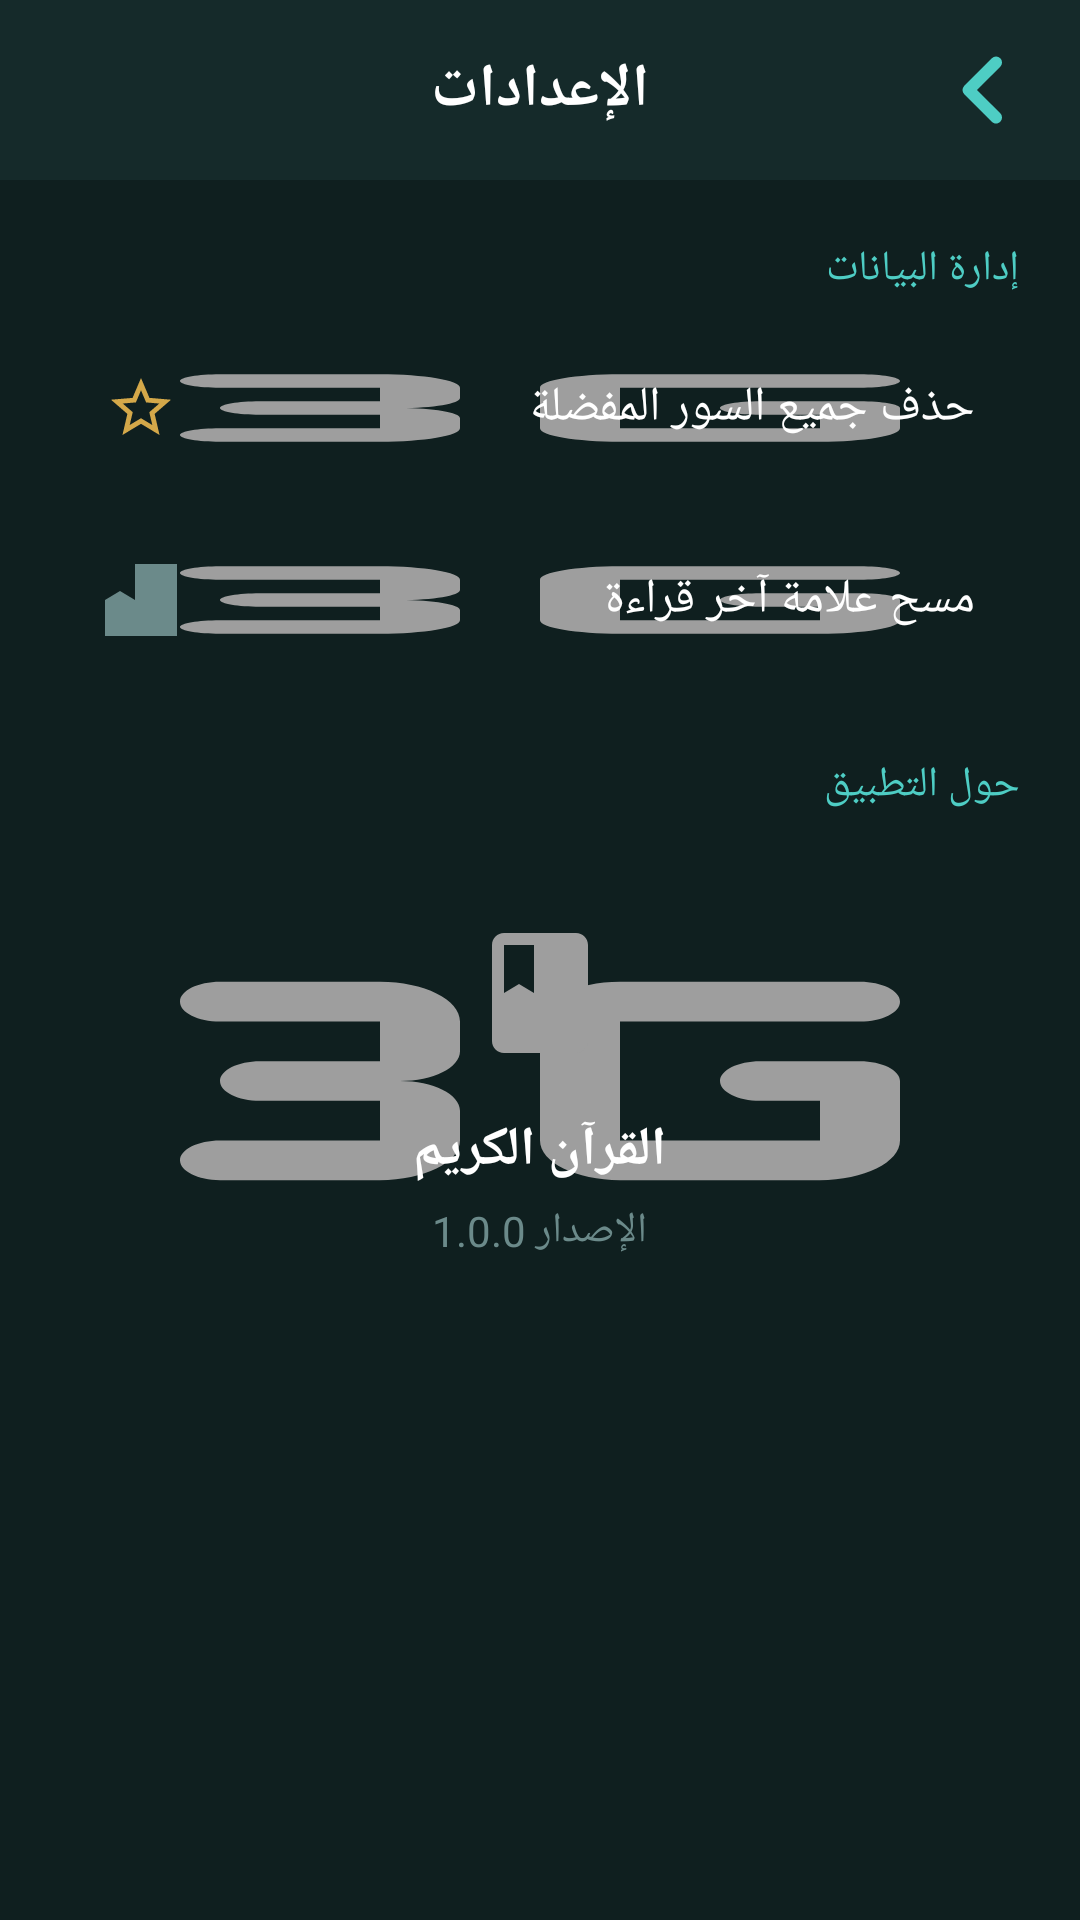

Point at icon controls on the screen. Image size 1080 x 1920, points as [x,y].
star: [141,406]
